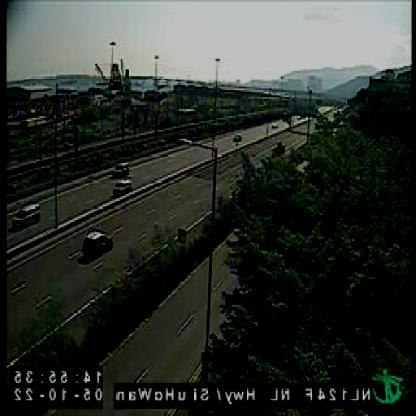Car: (84, 229, 115, 255), (14, 201, 40, 229), (115, 180, 132, 198), (116, 161, 132, 179)
